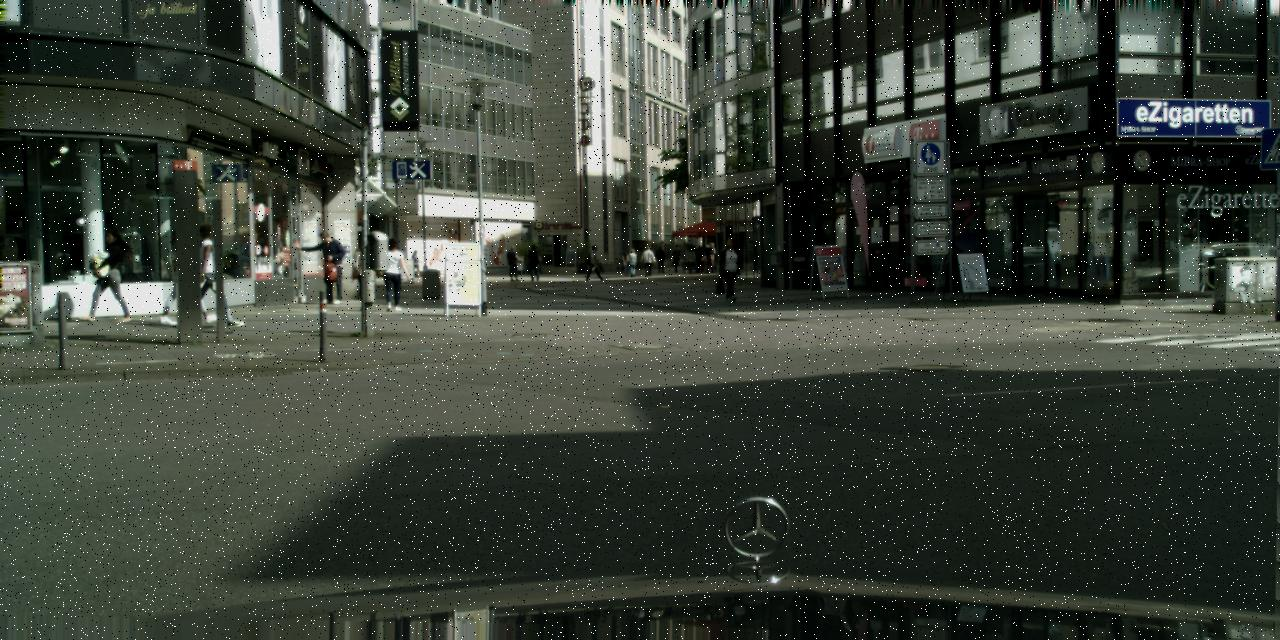ped: (90, 228, 128, 321), (378, 237, 408, 310), (314, 231, 344, 303), (199, 222, 216, 324), (718, 237, 743, 301), (353, 237, 378, 299), (158, 277, 177, 327), (224, 288, 245, 328), (527, 243, 542, 281), (506, 244, 521, 280), (588, 244, 602, 280), (622, 249, 638, 277), (642, 245, 654, 275), (706, 242, 716, 274), (670, 244, 681, 272), (654, 245, 665, 272), (409, 250, 420, 276), (169, 233, 175, 244), (173, 266, 176, 272)
